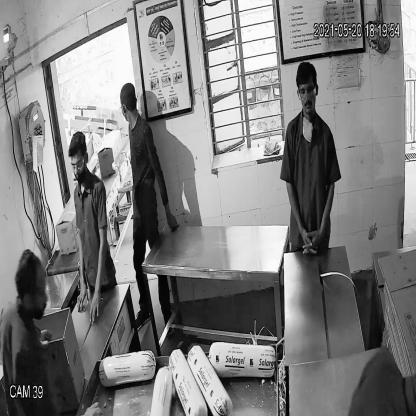goggles: (297, 83, 318, 102), (68, 156, 85, 174)
